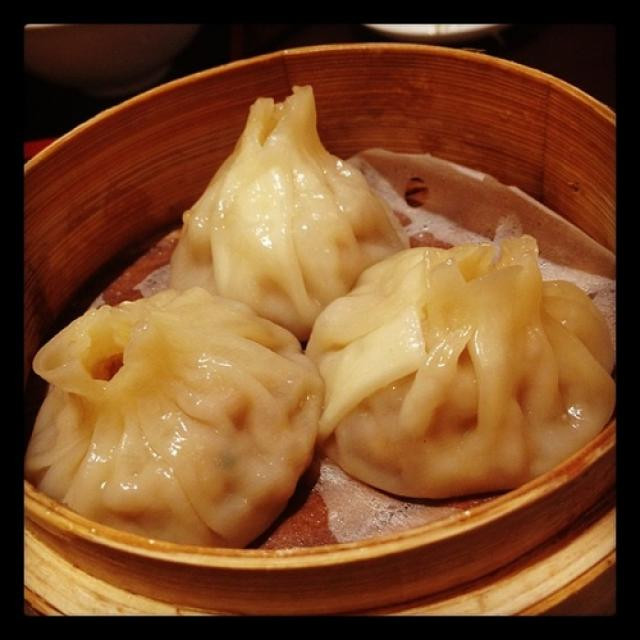带馅早点: (26, 40, 606, 591)
